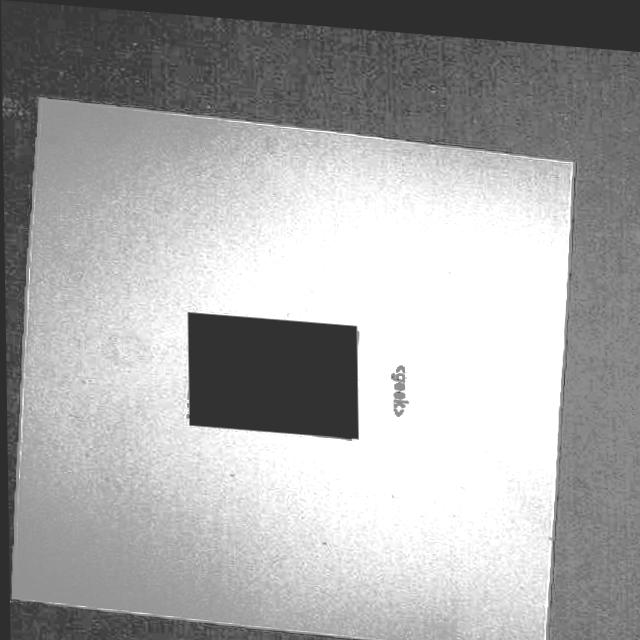qr_code: (186, 309, 356, 433)
